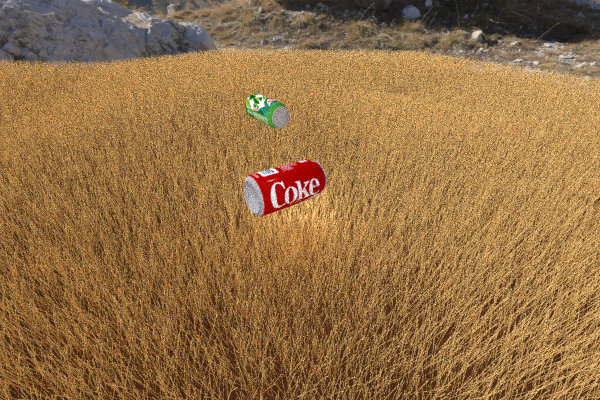bottle: (349, 82, 451, 150)
can: (243, 159, 326, 216), (245, 93, 289, 128)
